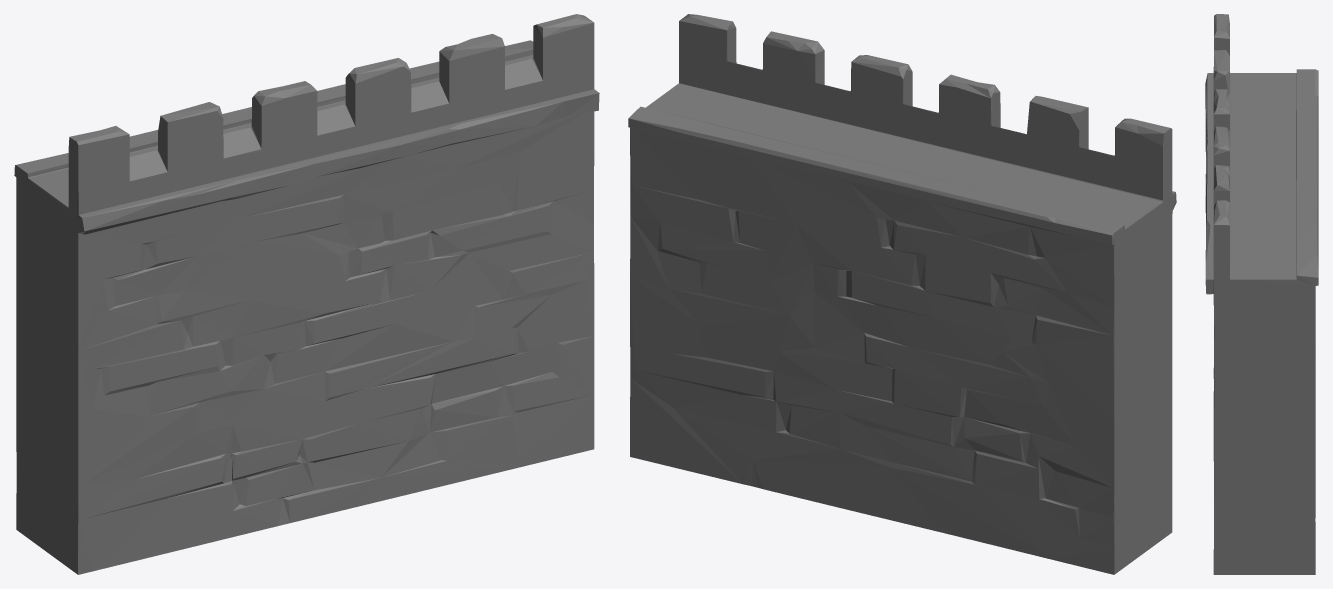
The model's file is castle_battlement_a.FBX.
3 views of the same model, side by side, from view 1: azimuth 30°, elevation 25°; view 2: azimuth 150°, elevation 25°; view 3: azimuth 270°, elevation 25° (orthographic). The views are drawn at different scales.
Parts seen in each view (by area): view 1: castle_battlement_a; view 2: castle_battlement_a; view 3: castle_battlement_a.
Part boxes in pixels (x1=…): castle_battlement_a: x1=14, y1=14, x2=599, y2=574; castle_battlement_a: x1=628, y1=14, x2=1176, y2=574; castle_battlement_a: x1=1205, y1=14, x2=1318, y2=574.
Bounding box in the file's own units: 12 × 9.6 × 2.78.
